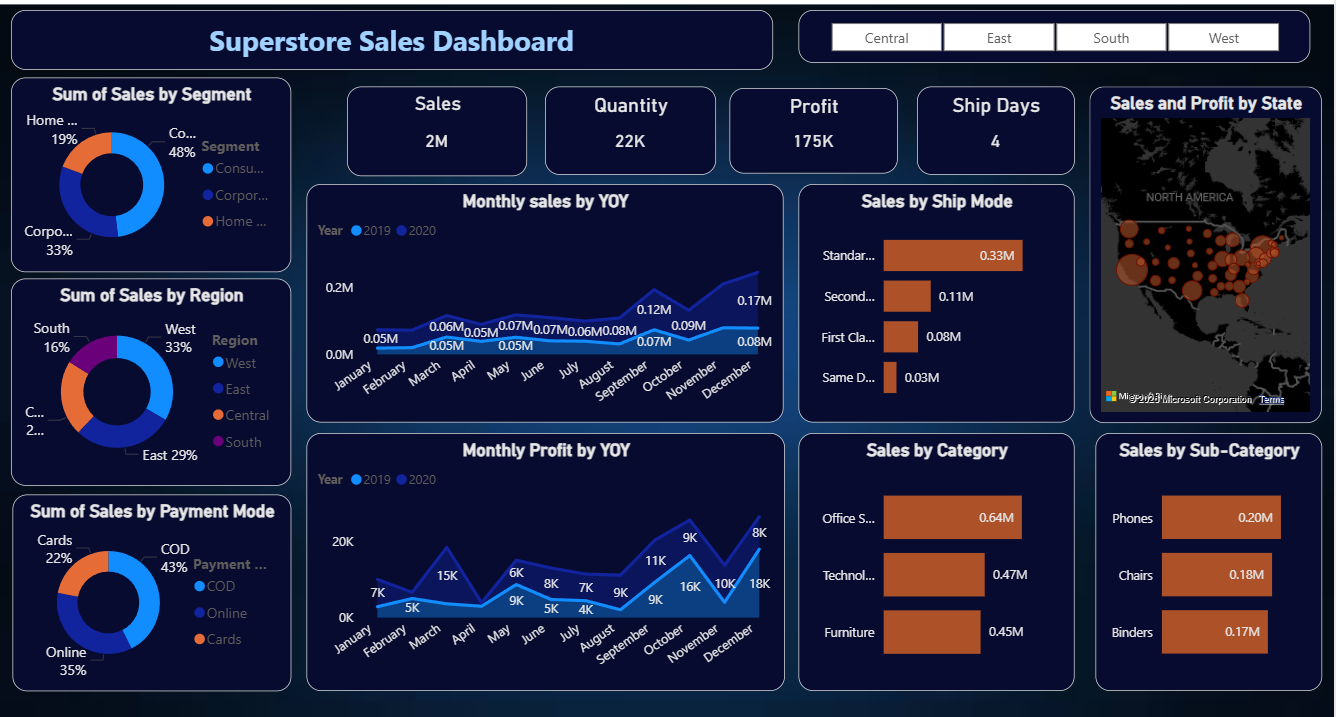

What the dashboard file says about the page in this screenshot:
{"tool":"powerbi","page":{"name":"Dashboard","canvas":[1280,720],"ordinal":0},"visuals":[{"type":"clusteredBarChart","title":" Sales by Category","fields":{"Category":["SuperStore_Sales_Dataset.Category"],"Y":["Sum(SuperStore_Sales_Dataset.Sales)"]},"box":[766.5,425.7,264.6,247.4],"z":0},{"type":"clusteredBarChart","title":" Sales by Sub-Category","fields":{"Y":["Sum(SuperStore_Sales_Dataset.Sales)"],"Category":["SuperStore_Sales_Dataset.Sub-Category"]},"box":[1051.4,425.7,217.1,247.1],"z":1000},{"type":"clusteredBarChart","title":" Sales by Ship Mode","fields":{"Y":["Sum(SuperStore_Sales_Dataset.Sales)"],"Category":["SuperStore_Sales_Dataset.Ship Mode"]},"box":[766.5,187,264.6,228.7],"z":2000},{"type":"stackedAreaChart","title":" Monthly sales by YOY","fields":{"Category":["SuperStore_Sales_Dataset.Order Date.Variation.Date Hierarchy.Month"],"Y":["Sum(SuperStore_Sales_Dataset.Sales)"],"Series":["SuperStore_Sales_Dataset.Order Date.Variation.Date Hierarchy.Year"]},"box":[294.8,187,457.3,228.7],"z":3000},{"type":"stackedAreaChart","title":" Monthly Profit by YOY","fields":{"Category":["SuperStore_Sales_Dataset.Order Date.Variation.Date Hierarchy.Month"],"Series":["SuperStore_Sales_Dataset.Order Date.Variation.Date Hierarchy.Year"],"Y":["Sum(SuperStore_Sales_Dataset.Profit)"]},"box":[294.8,425.7,458.8,247.4],"z":4000},{"type":"map","title":" Sales and  Profit by State","fields":{"Size":["Sum(SuperStore_Sales_Dataset.Sales)"],"Category":["SuperStore_Sales_Dataset.State"]},"box":[1045.7,92.9,222.9,322.9],"z":5000},{"type":"donutChart","fields":{"Category":["SuperStore_Sales_Dataset.Segment"],"Y":["Sum(SuperStore_Sales_Dataset.Sales)"]},"box":[11.5,84.8,268.9,187],"z":6000},{"type":"donutChart","fields":{"Y":["Sum(SuperStore_Sales_Dataset.Sales)"],"Category":["SuperStore_Sales_Dataset.Region"]},"box":[11.5,277.6,268.9,198.5],"z":7000},{"type":"donutChart","fields":{"Y":["Sum(SuperStore_Sales_Dataset.Sales)"],"Category":["SuperStore_Sales_Dataset.Payment Mode"]},"box":[12.9,484.6,267.5,188.4],"z":8000},{"type":"slicer","fields":{"Values":["SuperStore_Sales_Dataset.Region"]},"box":[766.5,20.1,490.4,50.3],"z":9000},{"type":"textbox","box":[11.5,20.1,730.6,57.5],"z":10000},{"type":"card","title":"Sales","fields":{"Values":["Sum(SuperStore_Sales_Dataset.Sales)"]},"box":[334.3,92.9,172.9,85.7],"z":11000},{"type":"card","title":"Quantity","fields":{"Values":["Sum(SuperStore_Sales_Dataset.Quantity)"]},"box":[523.5,93.5,163.9,84.8],"z":12000},{"type":"card","title":"Profit","fields":{"Values":["Sum(SuperStore_Sales_Dataset.Profit)"]},"box":[700.4,94.9,161.1,82],"z":13000},{"type":"card","title":"Ship Days","fields":{"Values":["Avg(SuperStore_Sales_Dataset.AvgDelivery)"]},"box":[880.1,93.5,151,84.8],"z":14000}]}

Visuals, with their boxes on the page's 1280x720 design canvas (x1, y1, x2, y2). These are canvas units, not pixel positions in the 1336x717 screenshot, which may show the page scaled, cropped or inside an application window:
" Sales by Category" clusteredBarChart: bbox(766, 426, 1031, 673)
" Sales by Sub-Category" clusteredBarChart: bbox(1051, 426, 1268, 673)
" Sales by Ship Mode" clusteredBarChart: bbox(766, 187, 1031, 416)
" Monthly sales by YOY" stackedAreaChart: bbox(295, 187, 752, 416)
" Monthly Profit by YOY" stackedAreaChart: bbox(295, 426, 754, 673)
" Sales and  Profit by State" map: bbox(1046, 93, 1269, 416)
donutChart - SuperStore_Sales_Dataset.Segment x Sum(SuperStore_Sales_Dataset.Sales): bbox(12, 85, 280, 272)
donutChart - Sum(SuperStore_Sales_Dataset.Sales) x SuperStore_Sales_Dataset.Region: bbox(12, 278, 280, 476)
donutChart - Sum(SuperStore_Sales_Dataset.Sales) x SuperStore_Sales_Dataset.Payment Mode: bbox(13, 485, 280, 673)
slicer - SuperStore_Sales_Dataset.Region: bbox(766, 20, 1257, 70)
textbox: bbox(12, 20, 742, 78)
"Sales" card: bbox(334, 93, 507, 179)
"Quantity" card: bbox(524, 94, 687, 178)
"Profit" card: bbox(700, 95, 862, 177)
"Ship Days" card: bbox(880, 94, 1031, 178)
